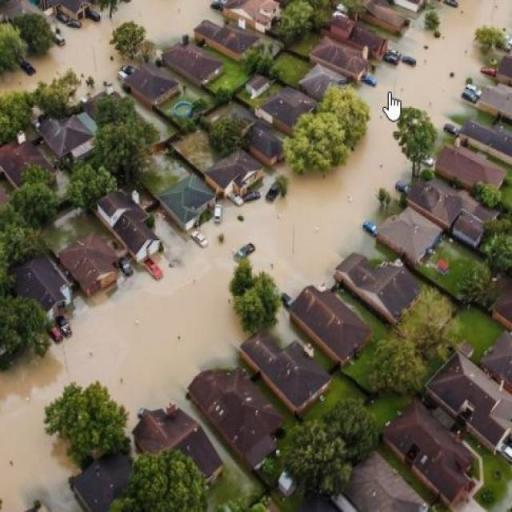flood: (0, 0, 512, 512), (11, 0, 220, 86), (136, 101, 177, 141)
house: (187, 366, 312, 479), (377, 397, 487, 509), (422, 346, 510, 468), (238, 334, 334, 412), (130, 404, 223, 484), (288, 285, 372, 366), (408, 180, 500, 252), (336, 252, 420, 325), (336, 453, 438, 512), (94, 190, 162, 265), (59, 232, 120, 298), (438, 144, 508, 201), (10, 258, 70, 319), (68, 454, 130, 512), (380, 204, 442, 260), (0, 136, 56, 196), (163, 174, 217, 233), (328, 13, 390, 62), (192, 20, 262, 63), (203, 150, 265, 198), (308, 36, 370, 83), (162, 45, 227, 88), (127, 62, 181, 108), (36, 114, 92, 158), (459, 120, 512, 166), (255, 96, 315, 134), (298, 62, 349, 104), (477, 328, 512, 385), (222, 0, 280, 32), (475, 84, 512, 126), (250, 132, 286, 166), (59, 1, 93, 22), (493, 54, 512, 83)
